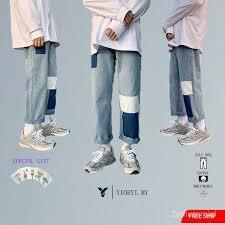pants: (92, 41, 142, 148), (166, 46, 206, 124), (22, 44, 59, 123)
